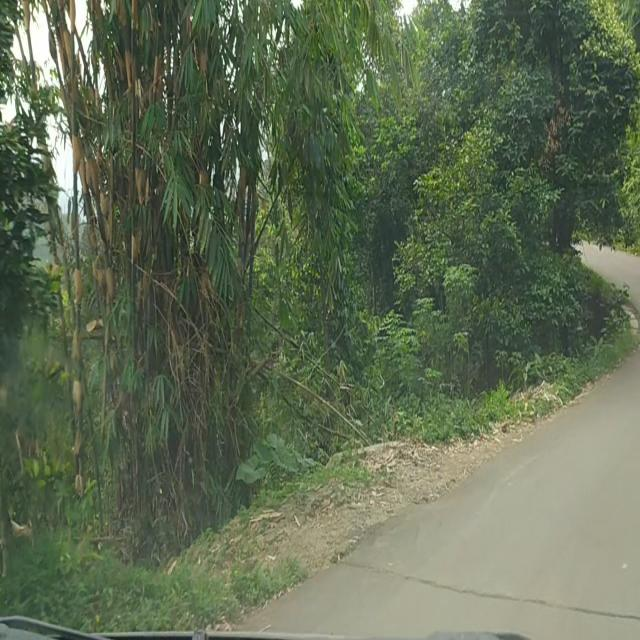Sewer Cover: (345, 551, 640, 617)
